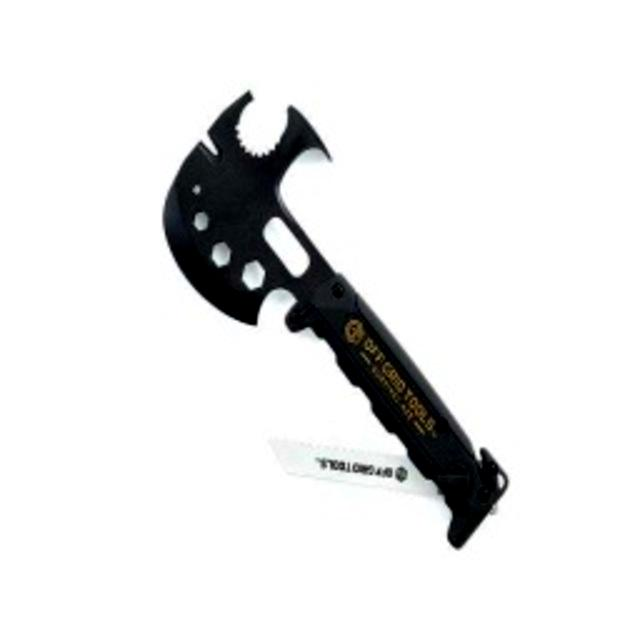ax: (150, 81, 524, 559)
